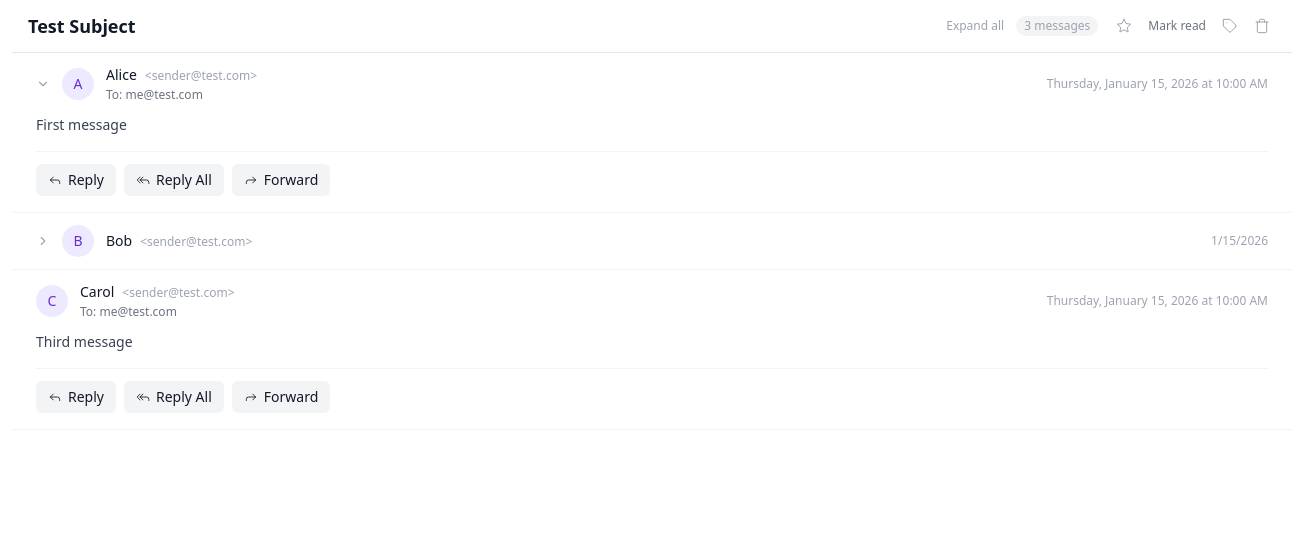
Test case: MessageDetail › expand all / collapse all toggle works in thread header
Expected: the text "First message" is shown, [36,115,127,134]
Expected: the text "Second message" is not shown
# Click 'Expand all'
Click the button "Expand all" at (975, 26), box [946,18,1004,34]
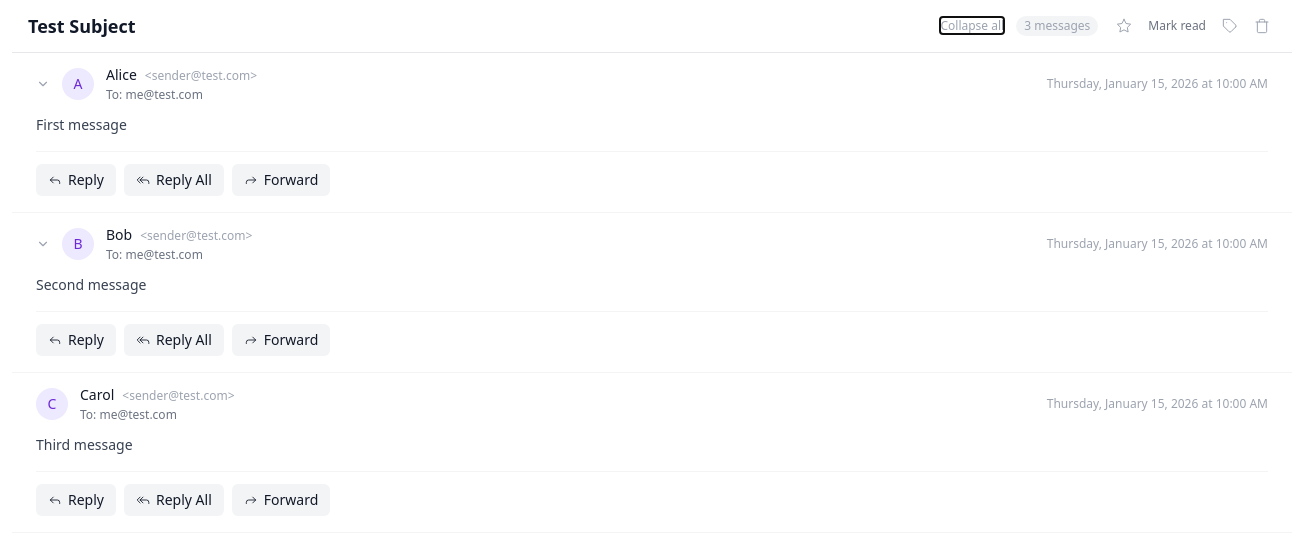
Expected: the text "First message" is shown, [36,115,127,134]
Result: the text "Second message" is shown at [36,275,146,294]
# Button should now say 'Collapse all'
Click the button "Collapse all" at (972, 26), box [940,18,1004,34]
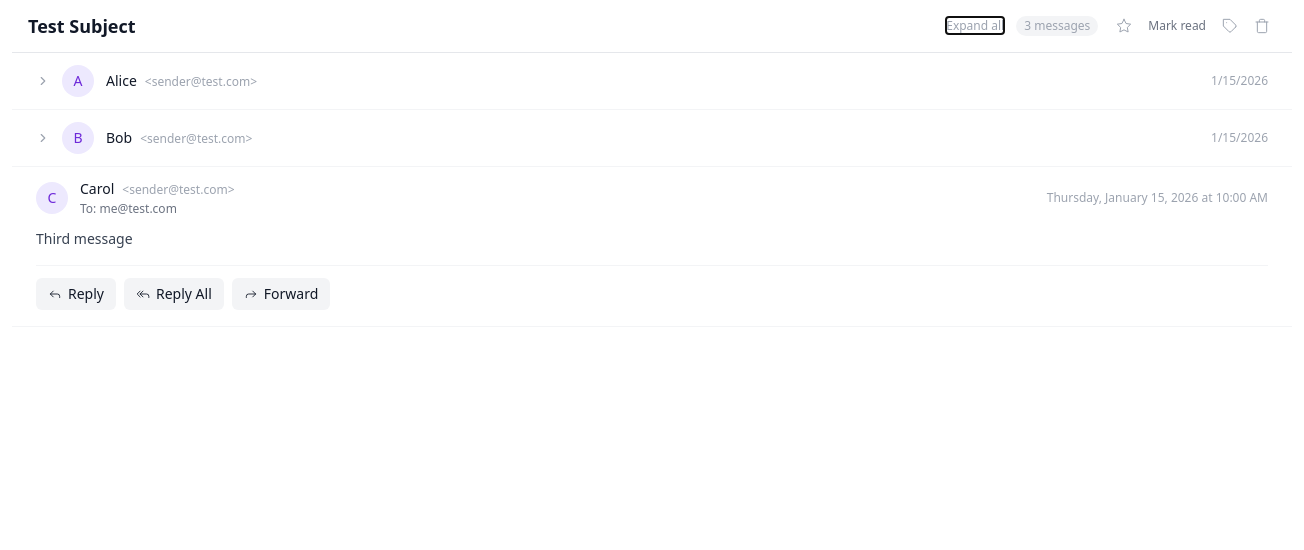
Expected: the text "Third message" is shown, [36,229,133,248]
Result: the text "First message" is gone
Result: the text "Second message" is gone
